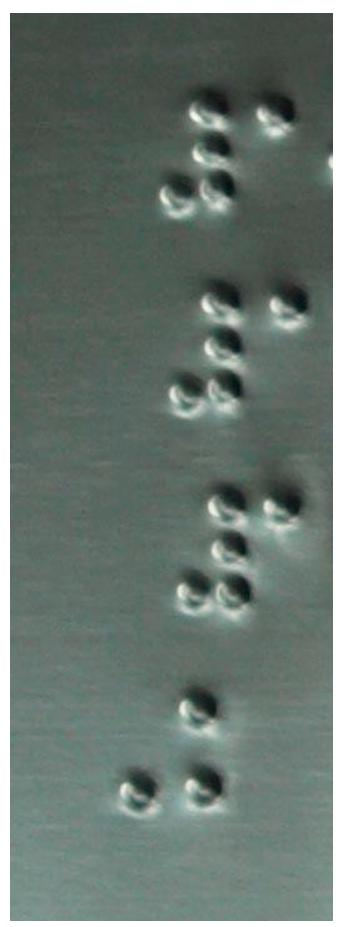Braille: (175, 683, 266, 814), (169, 281, 246, 415), (80, 683, 157, 817), (158, 86, 235, 215), (253, 88, 330, 212), (176, 488, 250, 617), (264, 281, 334, 416), (266, 486, 334, 615)
